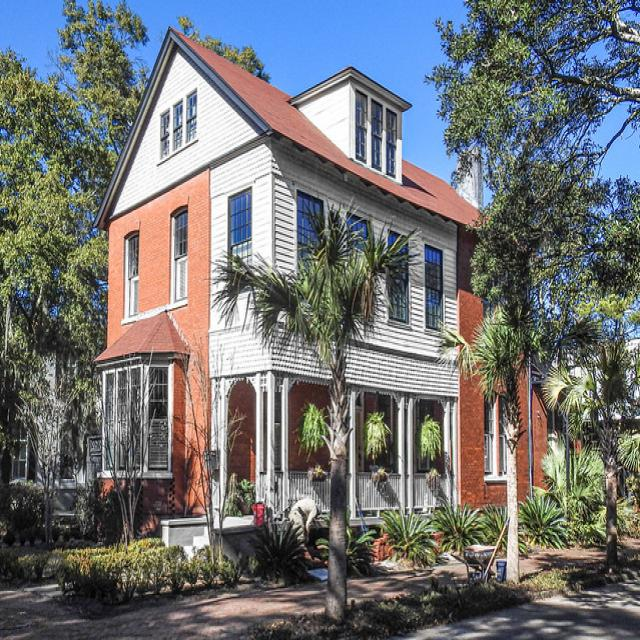Normal_building: (90, 22, 550, 564)
